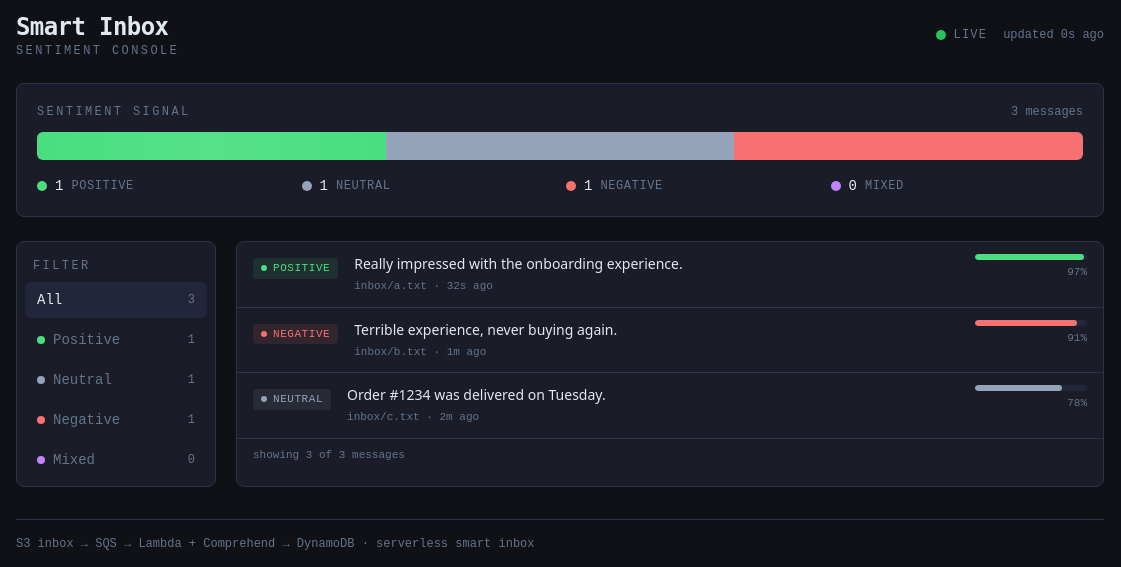
Scenario: Dashboard › filters message list to selected sentiment
The width and height of the screenshot is (1121, 567).
Click the button "Positive 1".
click(116, 340)  # box 25,322 -> 207,358
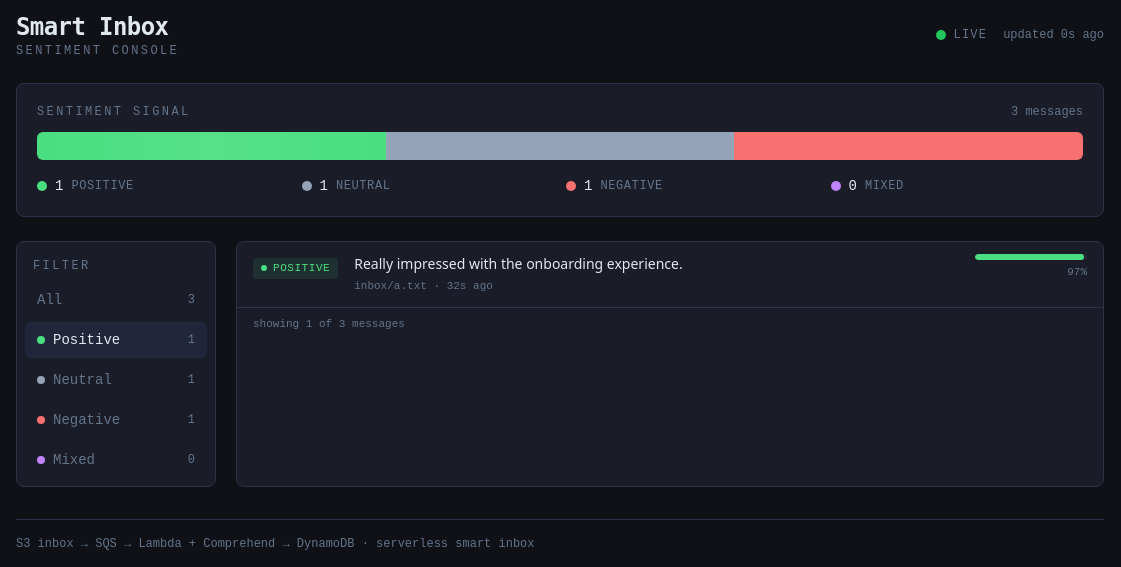
Expected: the text "Really impressed with the onboarding experience." is shown, 354,254 -> 683,273
Now the text "Terrible experience" is gone
Now the text "delivered on Tuesday" is gone
